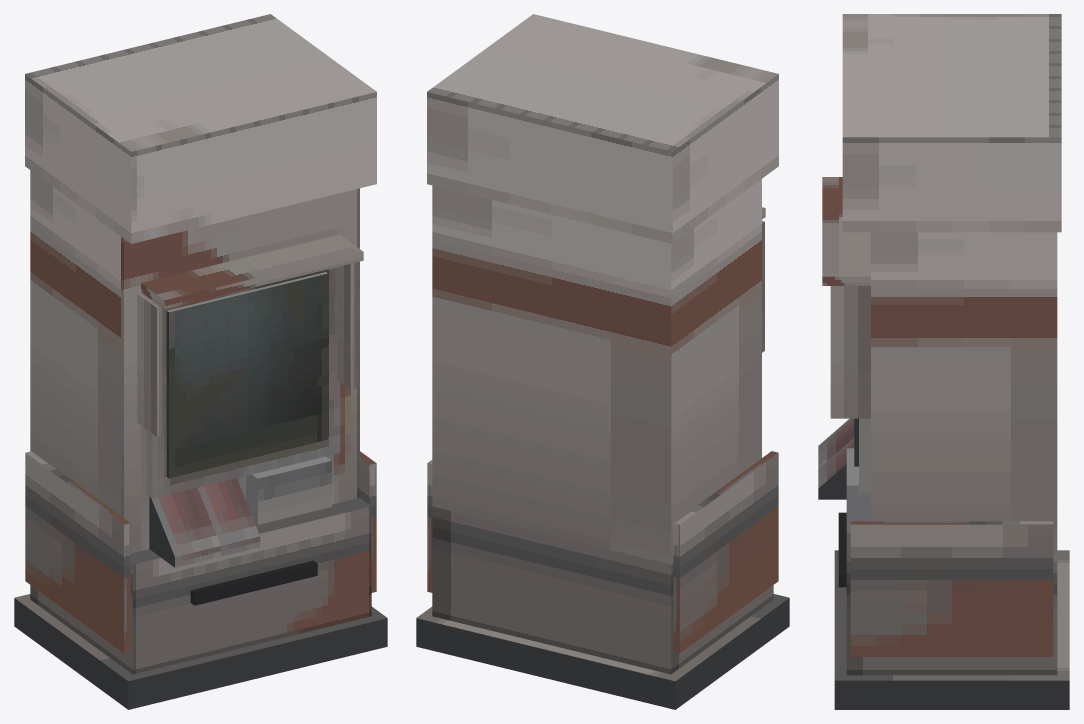
The model's file is Building_AncientATM.glb.
The picture shows the model from 3 angles, left to right: view 1: azimuth 30°, elevation 25°; view 2: azimuth 150°, elevation 25°; view 3: azimuth 270°, elevation 25°; orthographic projection. The views are drawn at different scales.
Parts seen in each view (by area): view 1: AncientATM; view 2: AncientATM; view 3: AncientATM.
Boxes of the visible parts, x1,y1,x2,y2 form: AncientATM: (14, 14, 387, 709); AncientATM: (416, 14, 789, 709); AncientATM: (818, 14, 1069, 709).
Bounding box in the file's own units: 0.76 × 1.55 × 0.62.
1 material, 1 textured.
